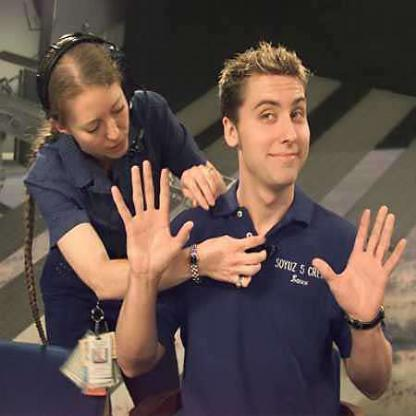face: (235, 50, 316, 187), (65, 59, 130, 167)
